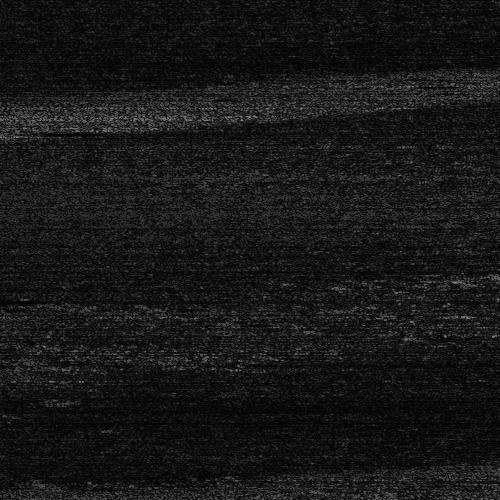object: (361, 496, 402, 499)
shadow: (382, 496, 487, 499)
